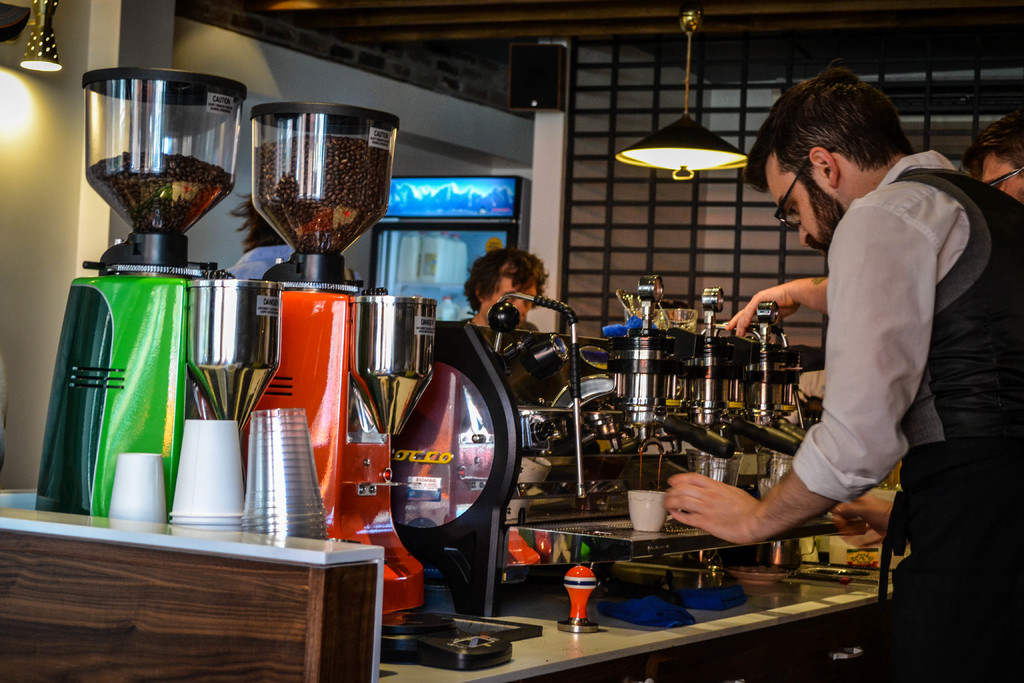Person: (662, 58, 1024, 682), (461, 244, 548, 332), (960, 110, 1024, 202)
